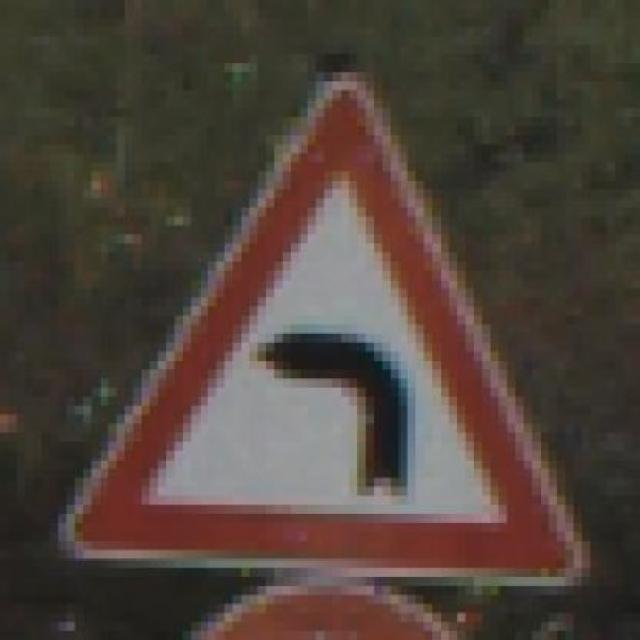Dangerous Left Curve Ahead: (65, 70, 597, 592)
